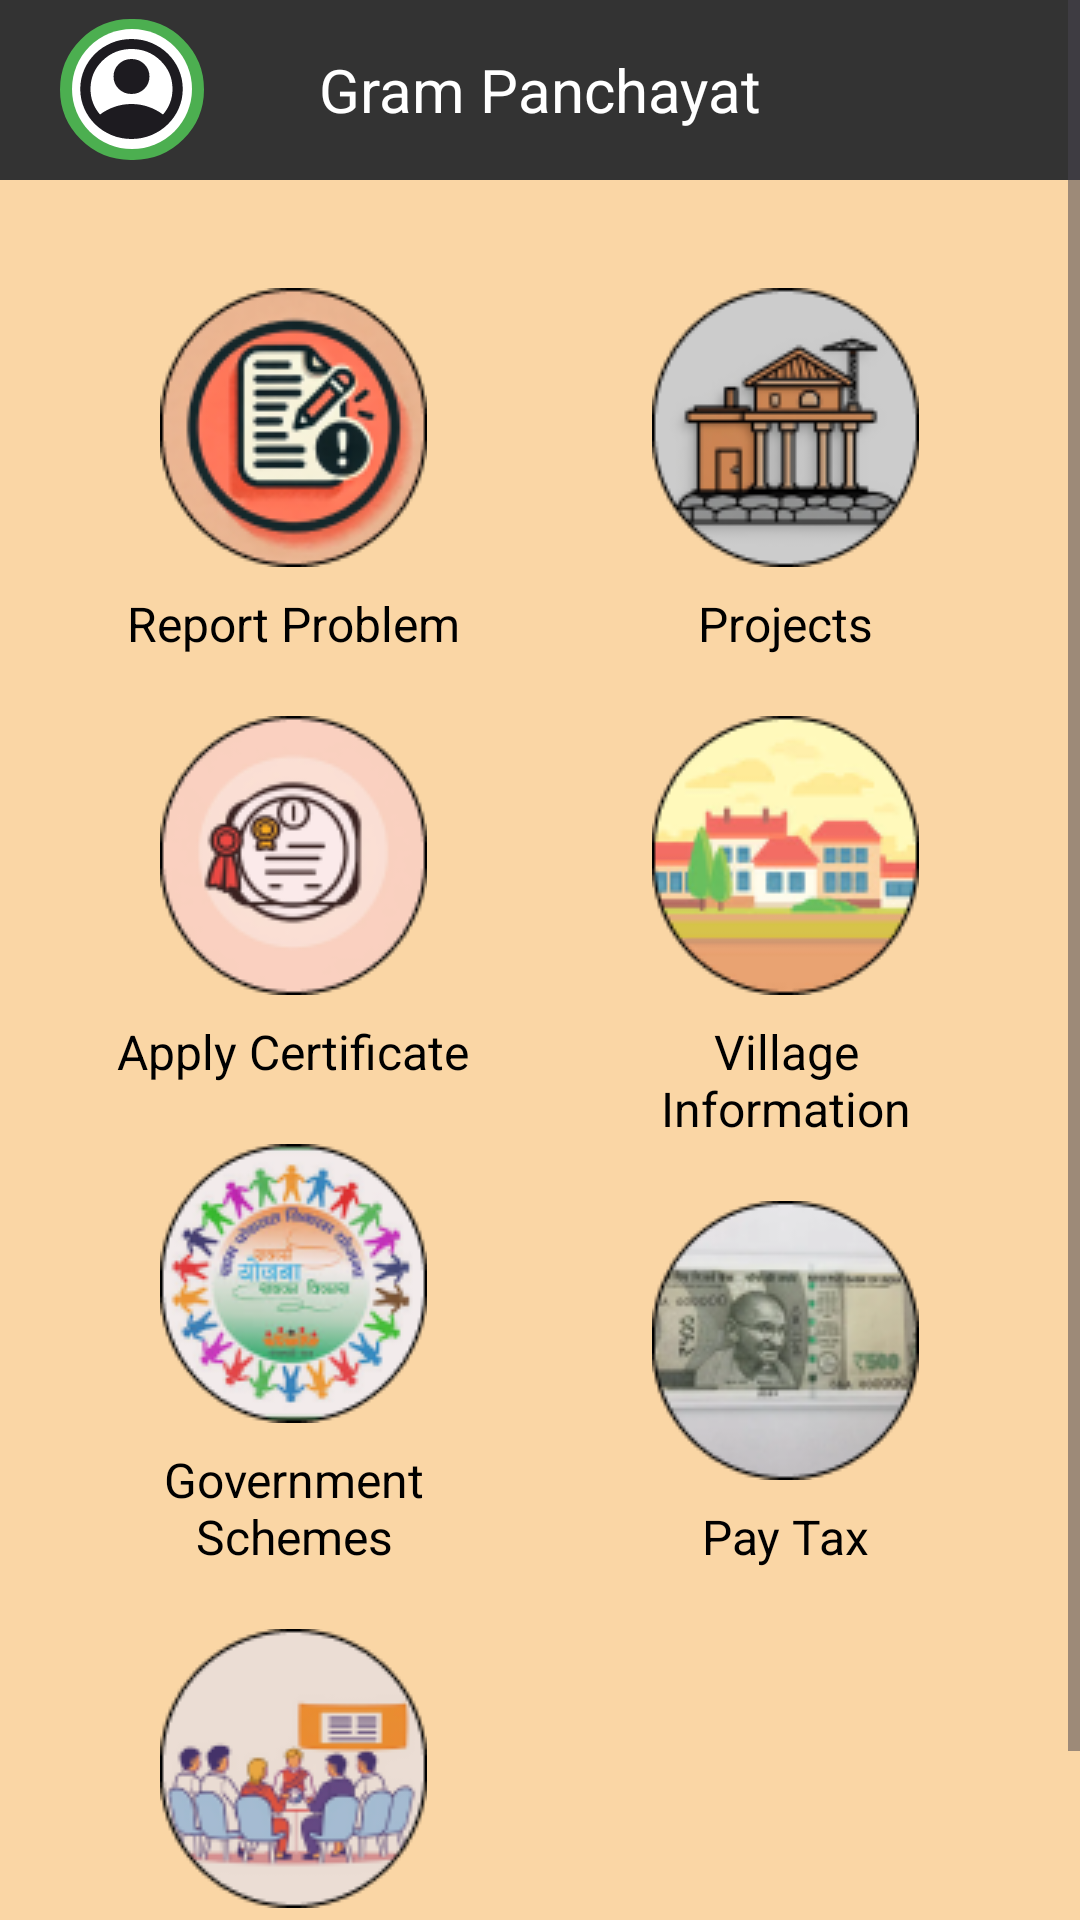

Named icons in this screenshot (1080px×1920px) and their centers, point (x, y):
accountinfo: point (132, 89)
